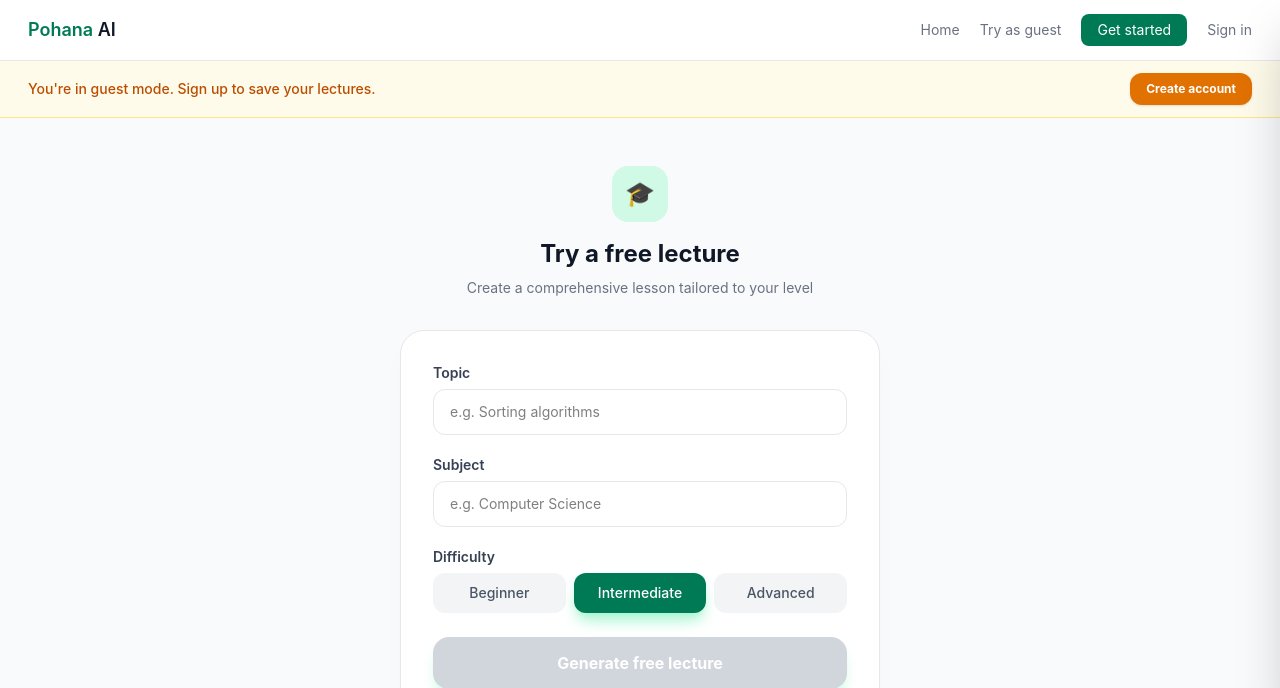
it: Guest Mode › TC-18: Lecturer preview shows when subject typed
Step 1. Type "Physics" into the field with placeholder "e.g. Computer Science" → (640, 504), box [433, 481, 847, 527]
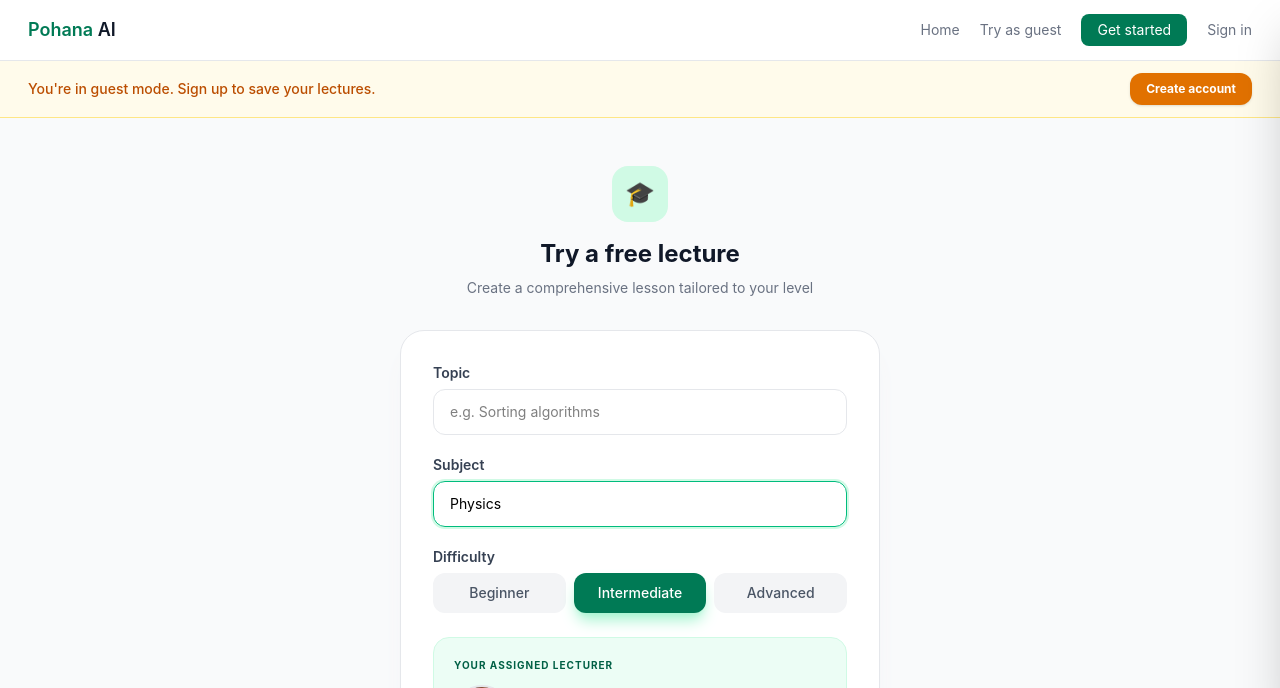
Expected: the text "Your assigned lecturer" is shown, [454, 659, 613, 671]
